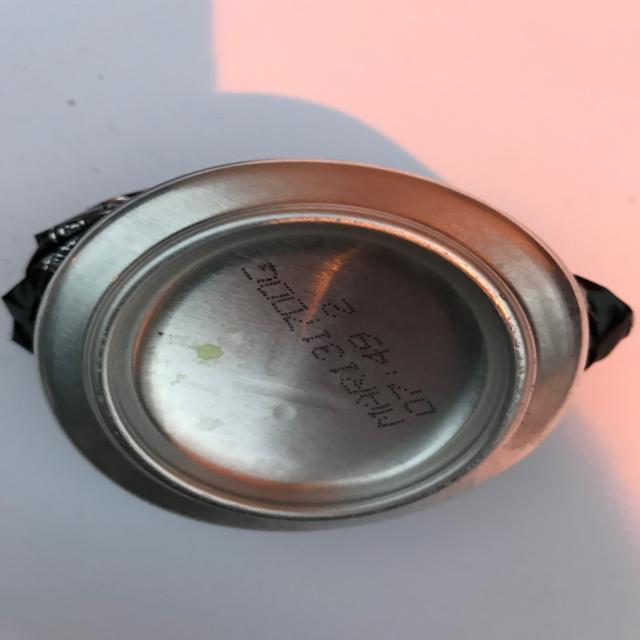metal: (5, 157, 632, 533)
